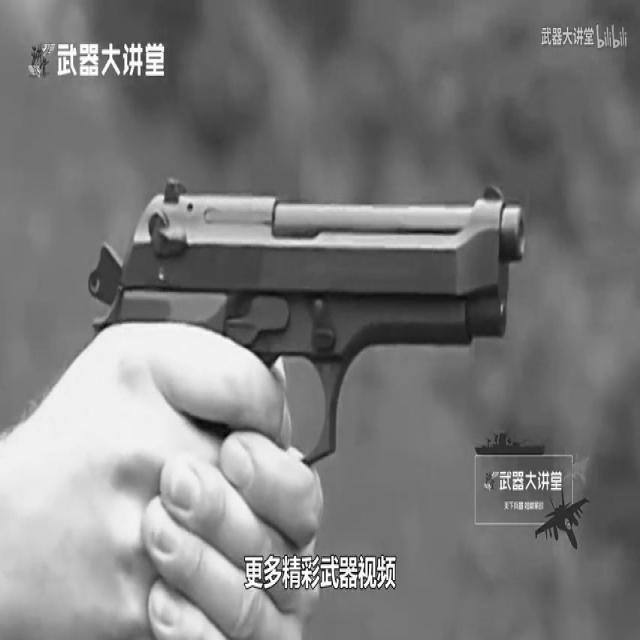Hand-Gun: (74, 152, 555, 614)
